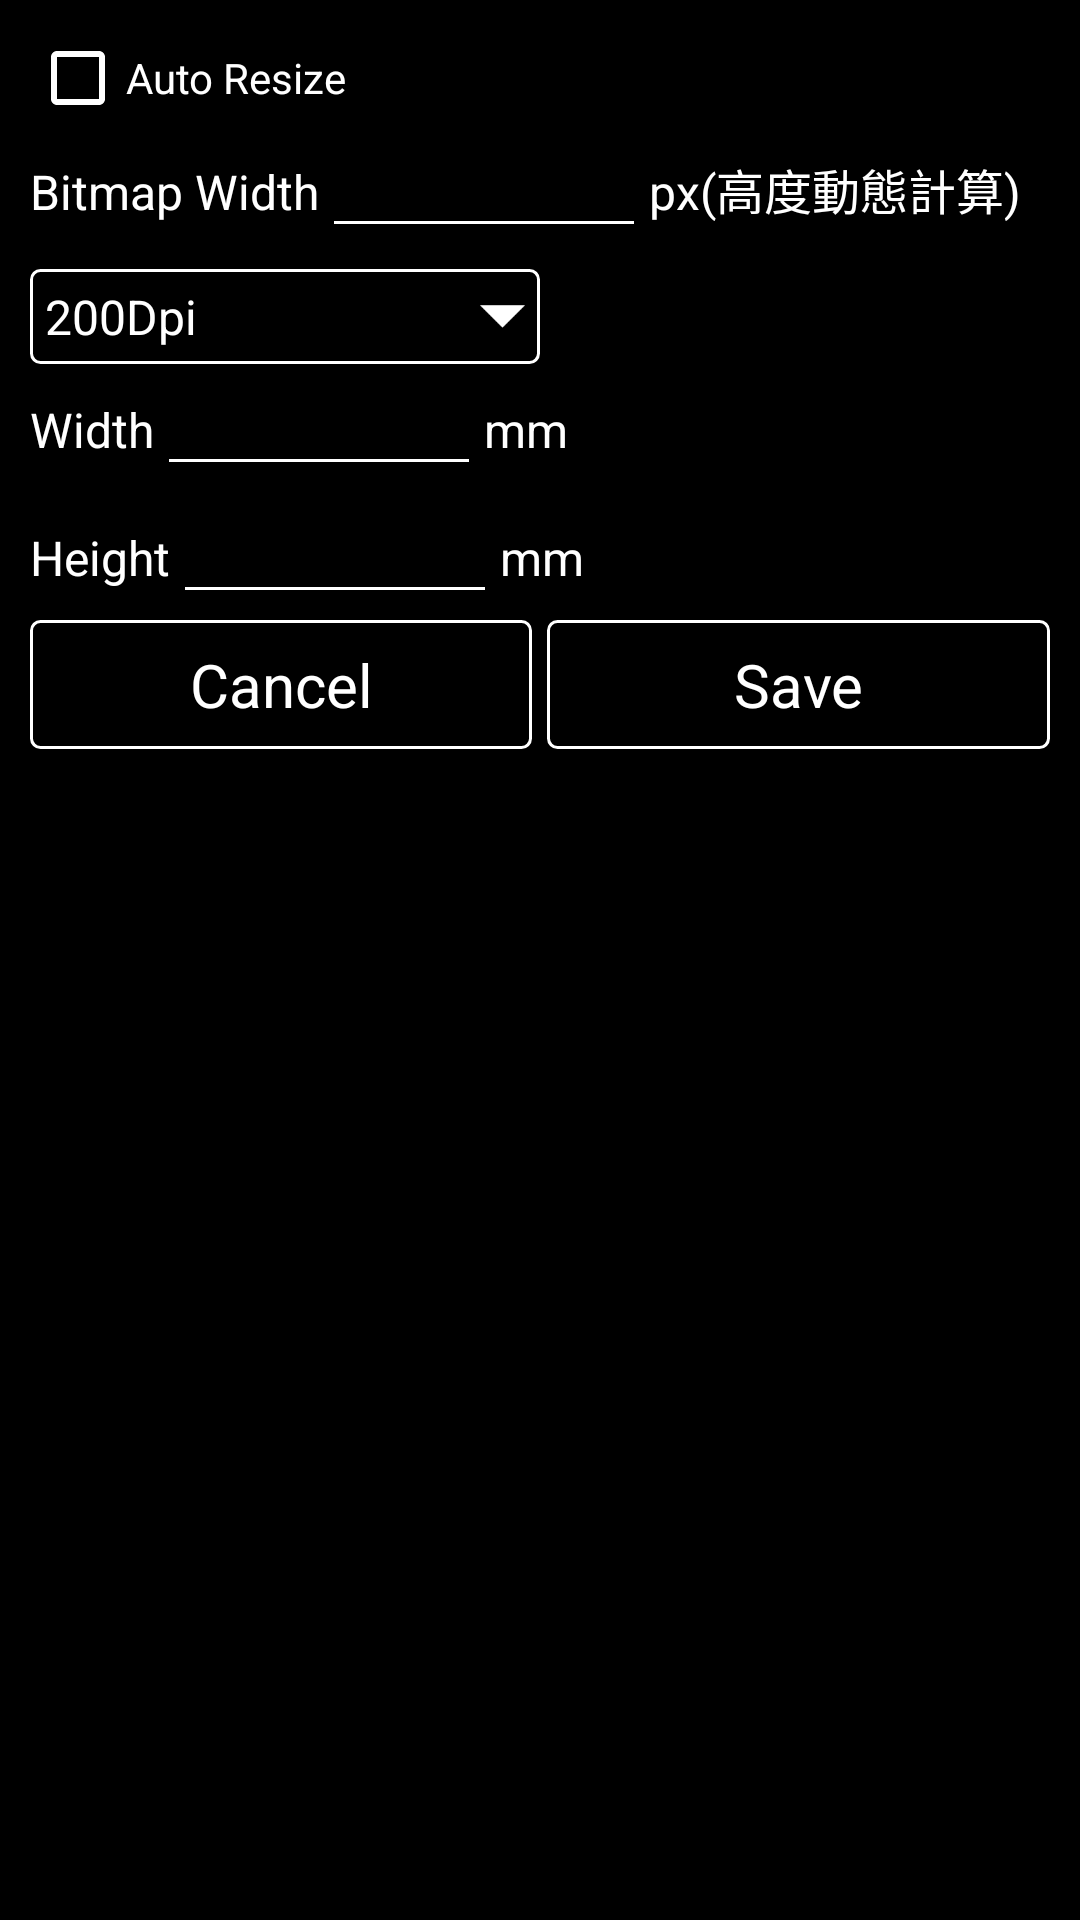

Screen size 1080x1920. Icon name, then its box in pixels as rect(x1, y1, x2, y2):
arrow down: rect(480, 305, 525, 328)
